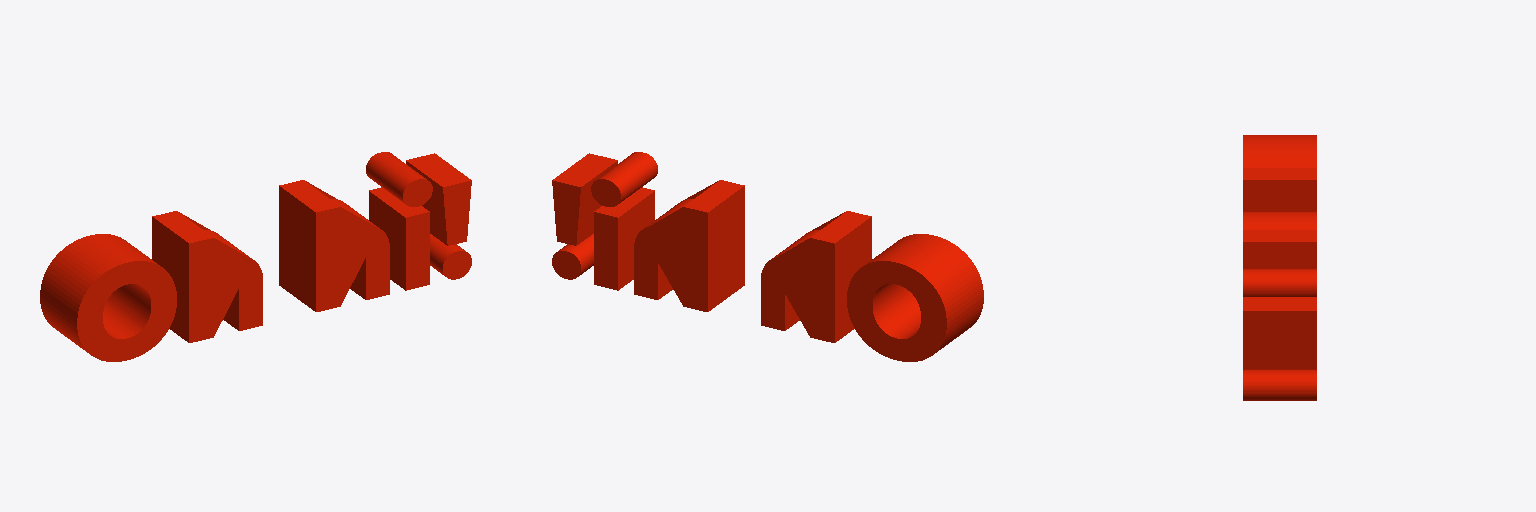
3 renders of one model, left to right at view 1: azimuth 30°, elevation 25°; view 2: azimuth 150°, elevation 25°; view 3: azimuth 270°, elevation 25°, orthographic.
Visible parts, largest first — view 1: MoText.1; view 2: MoText.1; view 3: MoText.1.
Boxes of the visible parts, box(x1,y1,x2,y2) form: MoText.1: box(40, 152, 471, 361); MoText.1: box(552, 152, 983, 361); MoText.1: box(1243, 135, 1316, 400).
Bounding box in the file's own units: 0.553 × 0.1472 × 0.09.